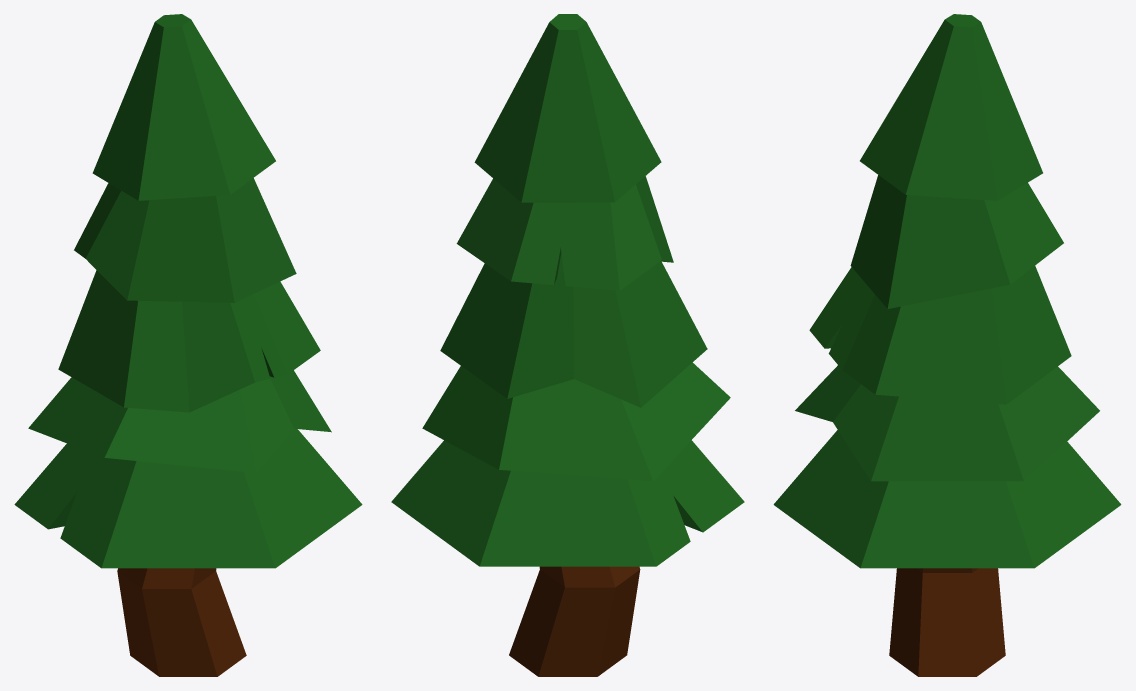
Rendered from tree.fbx.
The picture shows the model from 3 angles, left to right: view 1: azimuth 30°, elevation 25°; view 2: azimuth 150°, elevation 25°; view 3: azimuth 270°, elevation 25°; orthographic projection.
Visible parts, largest first — view 1: Cylinder.001, Cylinder.003, Cylinder.005, Cylinder.004, Cylinder.002, Cylinder; view 2: Cylinder.001, Cylinder.003, Cylinder.002, Cylinder.005, Cylinder.004, Cylinder; view 3: Cylinder.001, Cylinder.003, Cylinder.002, Cylinder.005, Cylinder.004, Cylinder.
Part boxes in pixels (x1,y1,x2,y2): Cylinder.001: (14, 428, 362, 568); Cylinder.003: (58, 270, 320, 412); Cylinder.005: (92, 14, 275, 200); Cylinder.004: (74, 178, 296, 302); Cylinder.002: (28, 370, 331, 472); Cylinder: (117, 568, 246, 676); Cylinder.001: (391, 440, 744, 566); Cylinder.003: (440, 254, 707, 407); Cylinder.002: (422, 362, 730, 481); Cylinder.005: (474, 14, 661, 202); Cylinder.004: (456, 176, 673, 290); Cylinder: (509, 566, 640, 676); Cylinder.001: (773, 430, 1121, 568); Cylinder.003: (809, 266, 1071, 404); Cylinder.002: (795, 365, 1099, 481); Cylinder.005: (860, 14, 1042, 200); Cylinder.004: (850, 175, 1063, 308); Cylinder: (889, 568, 1005, 676).
Bounding box in the file's own units: 337 × 780 × 389.
